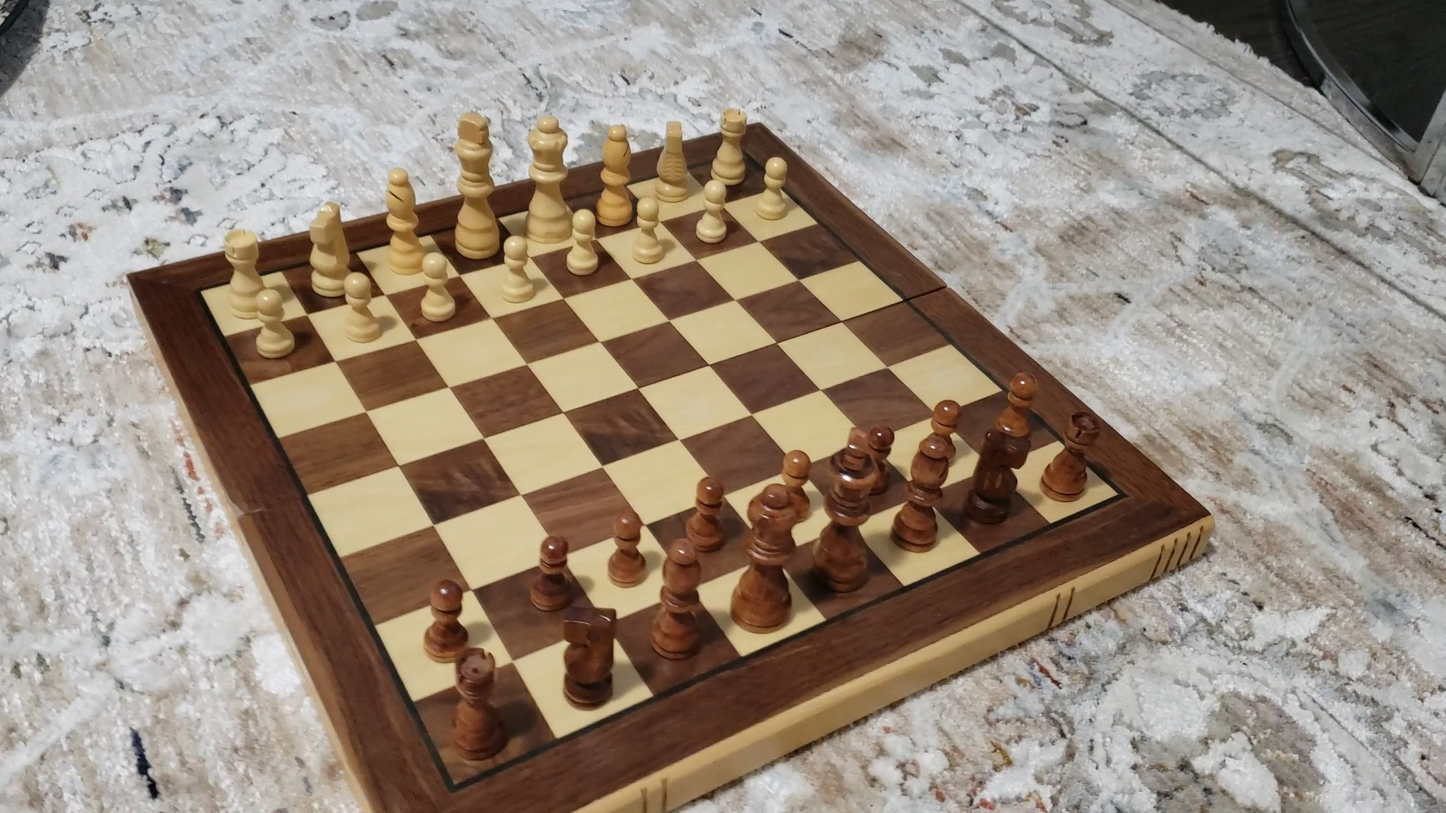black-bishop: (890, 434, 953, 552), (652, 537, 706, 661)
black-king: (812, 421, 899, 596)
black-knight: (963, 417, 1035, 526), (558, 604, 619, 709)
black-pawn: (420, 576, 472, 666), (991, 367, 1043, 454), (527, 532, 576, 615), (604, 508, 648, 589), (687, 473, 727, 556), (773, 445, 815, 519), (920, 396, 964, 465)
black-queen: (729, 481, 806, 635)
black-rook: (450, 648, 507, 763), (1039, 408, 1103, 503)
white-bishop: (382, 164, 424, 278), (595, 120, 635, 232)
white-king: (452, 107, 500, 263)
white-knight: (306, 199, 352, 300), (656, 116, 690, 206)
white-pawn: (247, 283, 302, 365), (336, 268, 390, 348), (624, 188, 673, 272), (412, 247, 462, 328), (492, 231, 542, 309), (689, 173, 739, 250), (559, 205, 607, 282), (750, 152, 797, 226)
white-queen: (525, 110, 573, 247)
white-rook: (220, 226, 268, 320), (711, 104, 751, 189)
